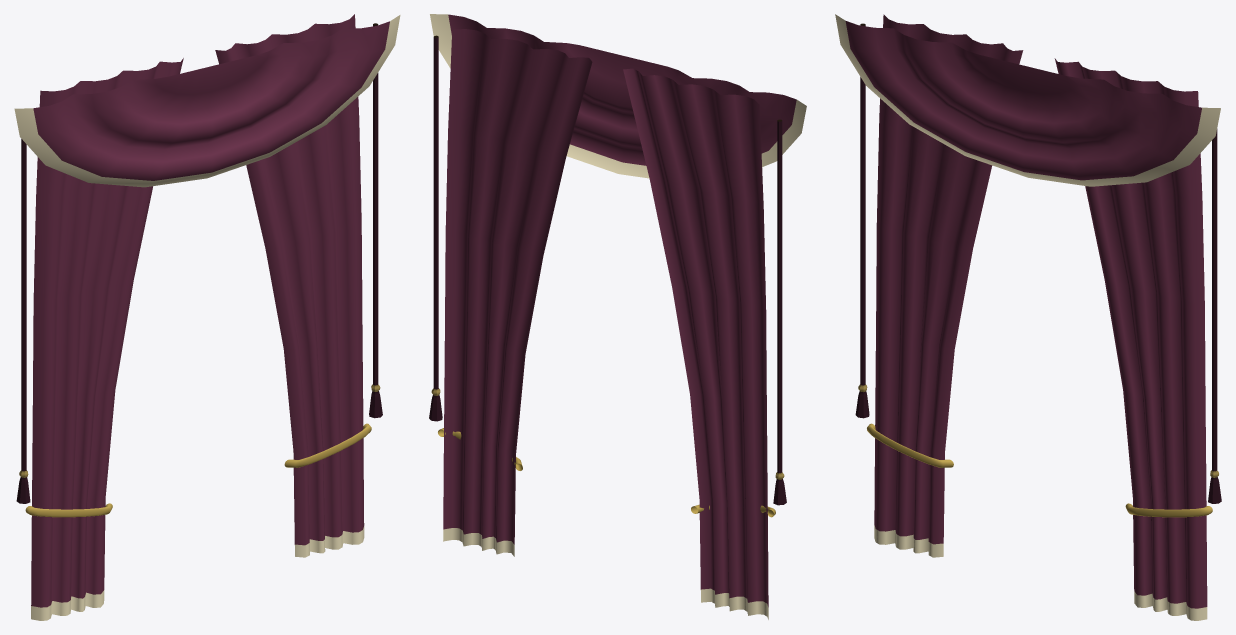
File: Cortina3.fbx
The picture shows the model from 3 angles, left to right: view 1: azimuth 30°, elevation 25°; view 2: azimuth 150°, elevation 25°; view 3: azimuth 330°, elevation 25°; orthographic projection. The views are drawn at different scales.
Parts seen in each view (by area): view 1: Cortina3; view 2: Cortina3; view 3: Cortina3.
Boxes of the visible parts, box(x1,y1,x2,y2) form: Cortina3: box(14, 14, 400, 620); Cortina3: box(429, 14, 806, 619); Cortina3: box(835, 14, 1221, 620).
Size of the model in its own units: 481 by 627 by 39.67.
